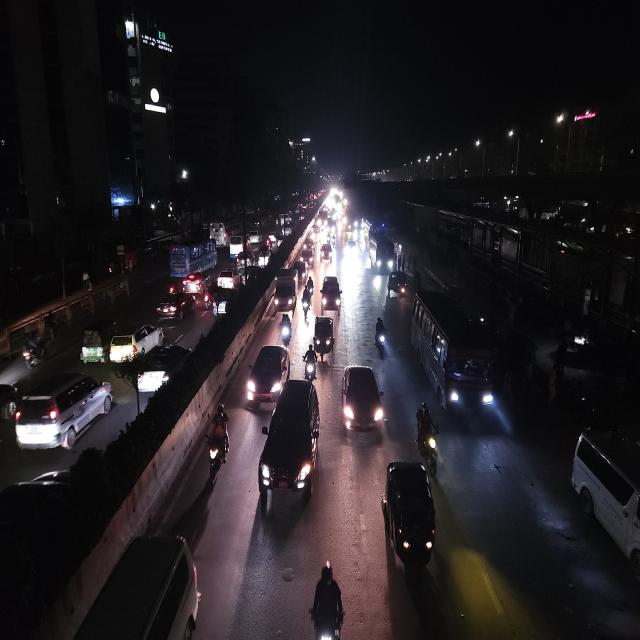bus: (408, 285, 498, 423), (168, 234, 218, 282), (367, 229, 395, 276), (210, 221, 228, 249), (300, 247, 316, 268)
car: (50, 527, 203, 640), (568, 424, 640, 594), (256, 377, 322, 517), (10, 367, 114, 453), (338, 360, 386, 442), (134, 342, 194, 404), (243, 340, 290, 409), (107, 318, 165, 367), (154, 288, 196, 323), (319, 272, 344, 315), (217, 266, 239, 290), (228, 232, 245, 257), (236, 249, 256, 269), (319, 242, 333, 264), (256, 247, 270, 268)
cng: (381, 456, 439, 582), (78, 319, 108, 365), (314, 312, 336, 362), (386, 267, 408, 302)
motorcycle: (202, 402, 232, 488), (415, 399, 440, 468), (18, 331, 50, 371), (303, 341, 317, 382), (374, 314, 387, 358), (303, 274, 315, 316), (279, 310, 293, 346)
truck: (274, 260, 302, 315)
